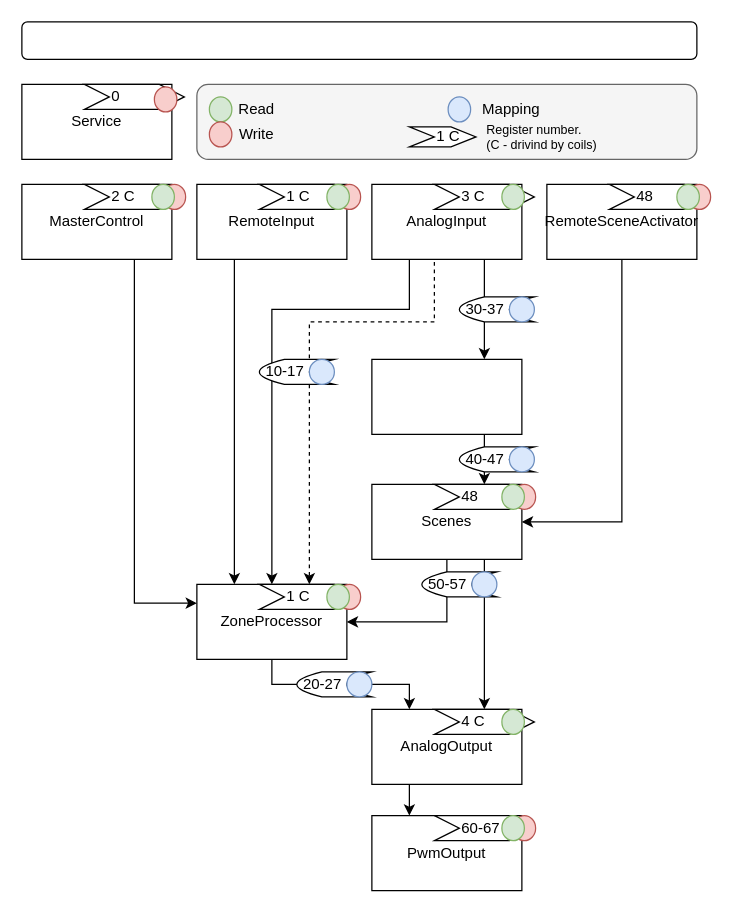
Some shapes in this 744 by 913 pixel diagram are drawn without their labels. Here are the shapes that lost their labels. From the top down, the centre of each, then its label:
pixel 359 40: BLINKBUS Control Flow & Registers
pixel 446 396: Gesture
